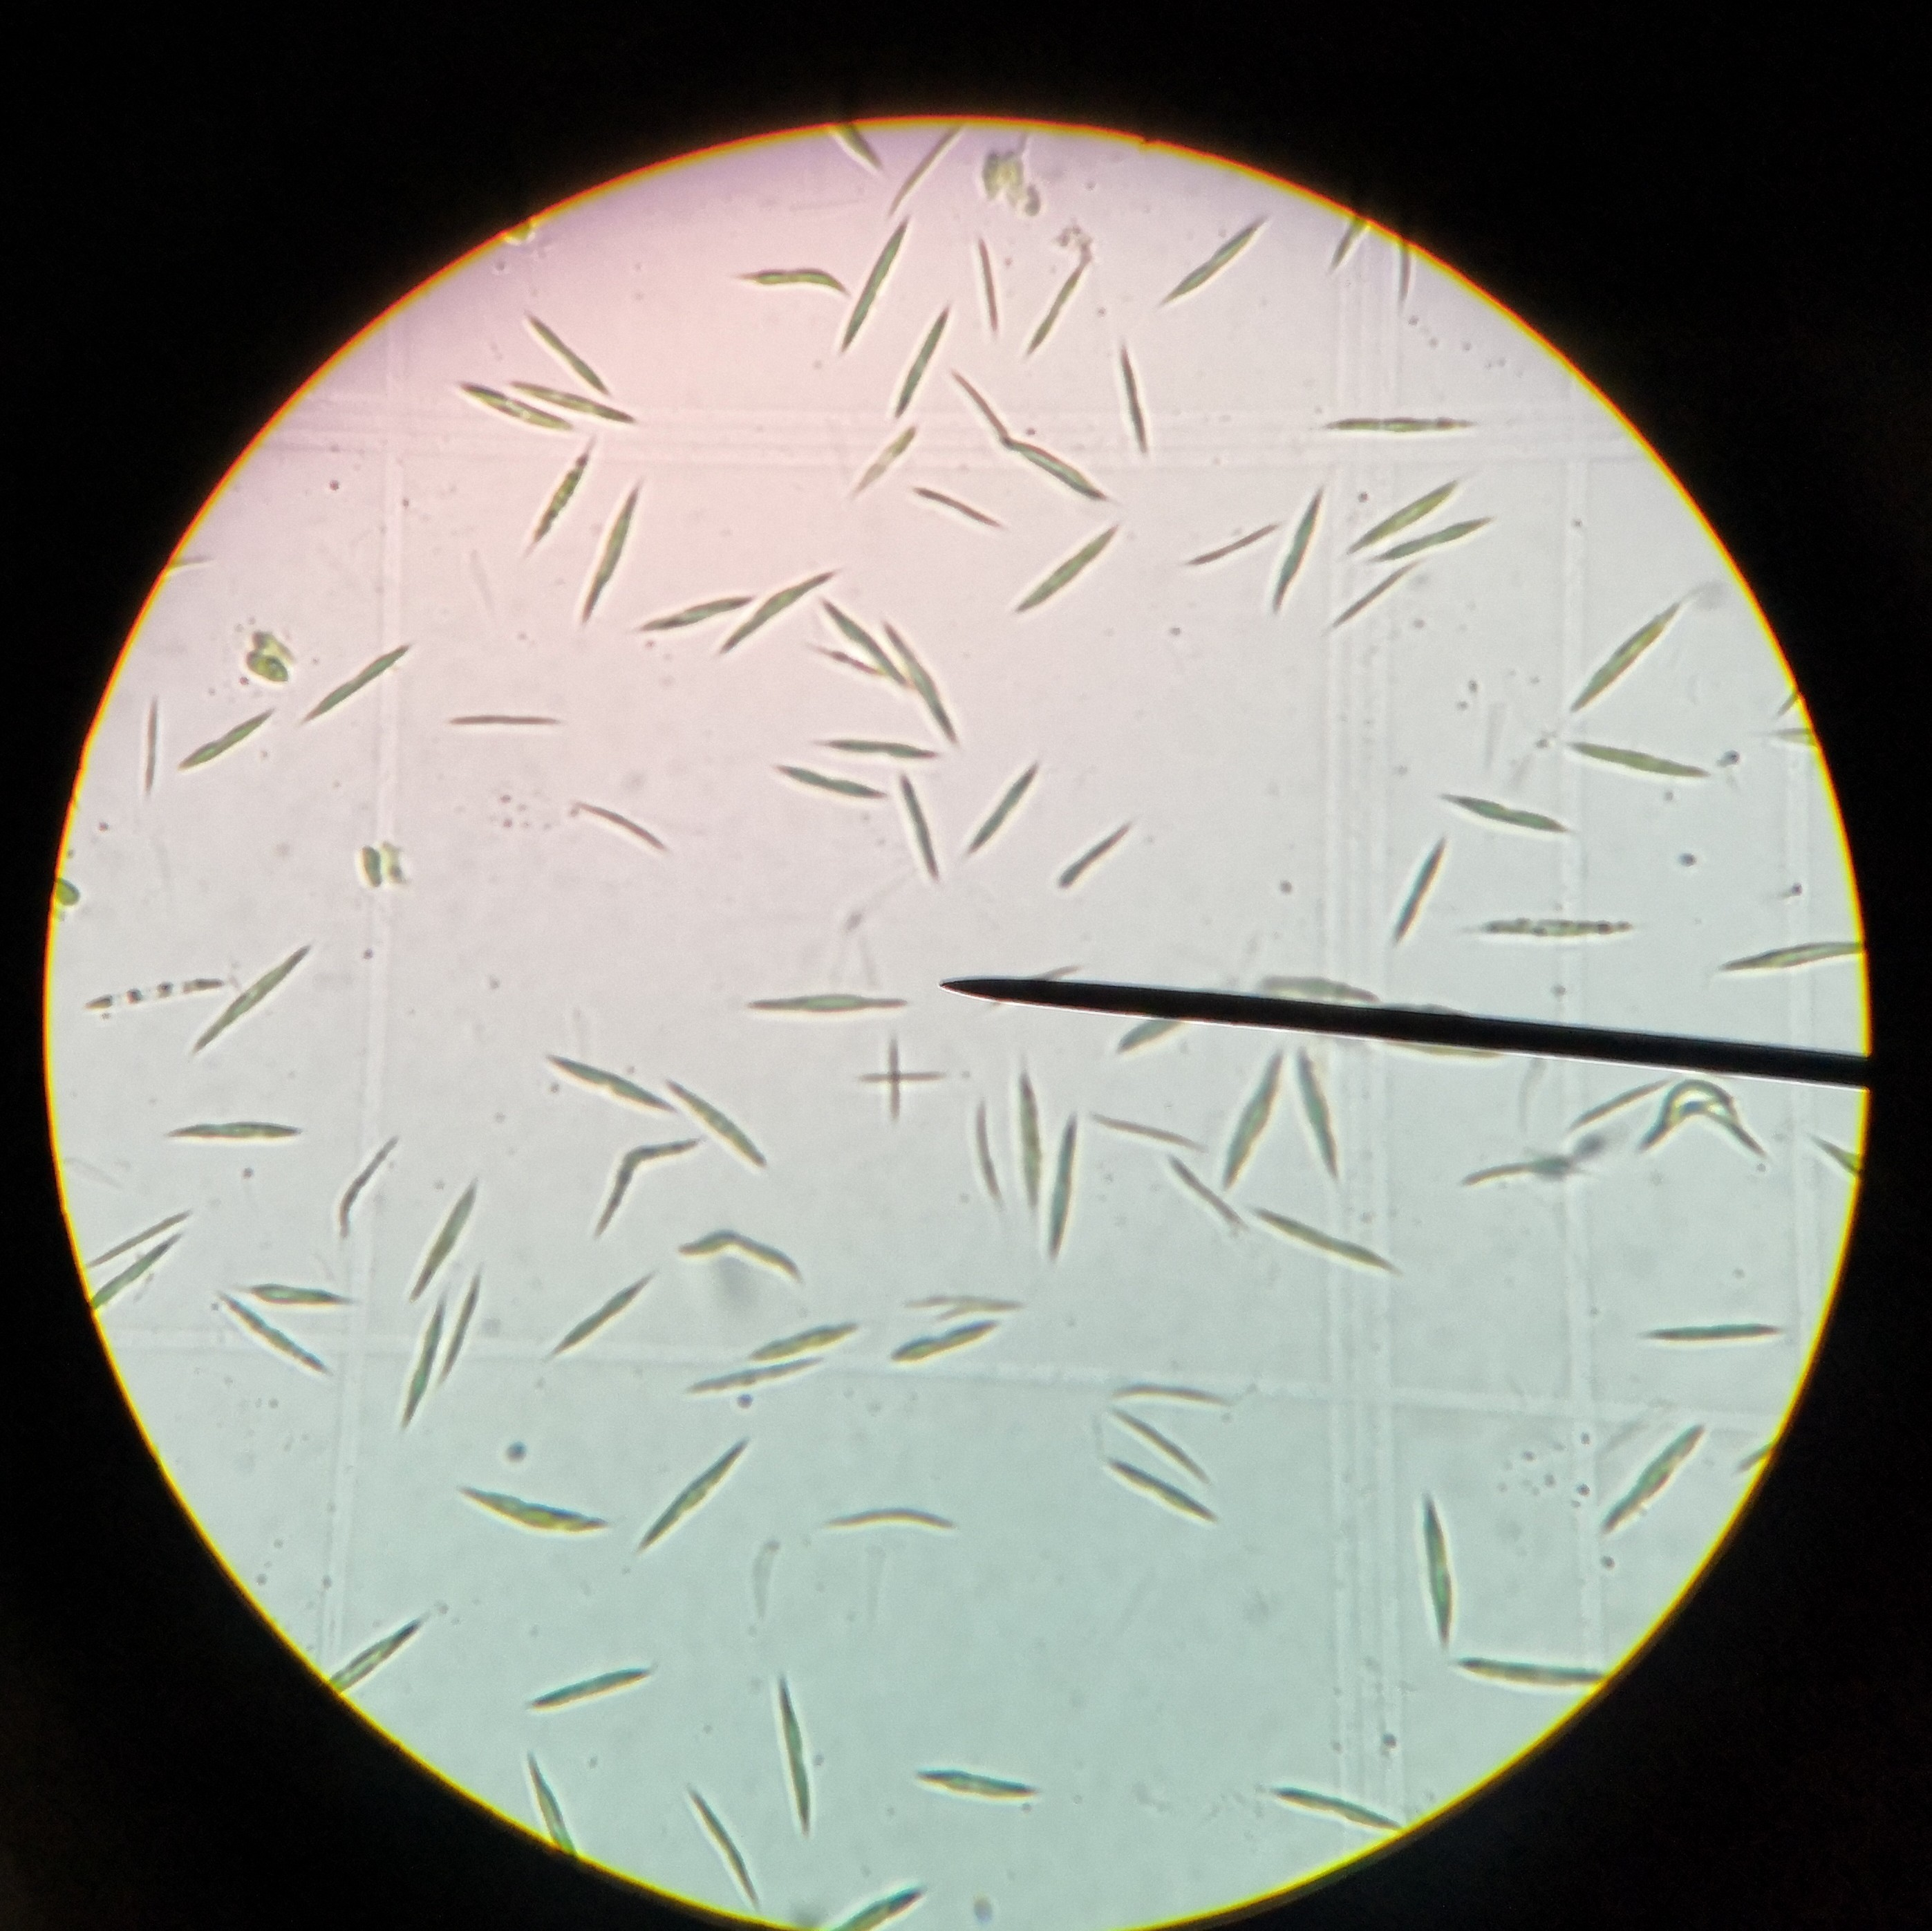Microalgae: (1554, 591, 1685, 711), (1593, 1423, 1708, 1544), (187, 953, 300, 1065), (1635, 1077, 1775, 1167), (751, 1675, 829, 1836), (636, 1436, 746, 1549), (589, 1130, 698, 1231), (1458, 1632, 1594, 1712), (718, 568, 841, 654), (300, 640, 417, 727), (665, 1077, 771, 1169), (843, 214, 910, 357), (1094, 1455, 1218, 1531), (578, 477, 643, 621), (1264, 1781, 1403, 1846), (331, 1604, 424, 1701), (209, 1294, 320, 1376), (1163, 216, 1266, 302), (85, 1245, 189, 1330), (74, 1206, 191, 1280), (1250, 1211, 1396, 1270), (1034, 1116, 1089, 1271), (689, 1797, 762, 1912), (958, 757, 1036, 863), (887, 622, 953, 746), (1336, 476, 1453, 545), (553, 1268, 654, 1347), (523, 304, 615, 391), (456, 1482, 610, 1533), (527, 437, 594, 552), (997, 1050, 1046, 1206), (541, 1049, 670, 1107), (693, 1346, 825, 1402), (898, 1756, 1043, 1807), (1326, 559, 1430, 630), (1013, 529, 1110, 601), (1382, 500, 1497, 561), (673, 1229, 802, 1282), (1013, 262, 1085, 355), (1416, 1498, 1458, 1657), (1110, 1399, 1200, 1471), (1561, 736, 1715, 778), (513, 1756, 576, 1858), (1274, 477, 1322, 612), (894, 301, 949, 417), (331, 1139, 401, 1227), (1388, 840, 1448, 943), (1228, 1049, 1276, 1176), (1460, 911, 1632, 946), (1313, 407, 1476, 444), (1716, 935, 1852, 980), (417, 1176, 470, 1289), (1640, 1312, 1778, 1355), (453, 382, 571, 430), (749, 1310, 868, 1356), (1458, 1149, 1577, 1195), (1568, 1066, 1674, 1118), (571, 799, 670, 854), (1043, 828, 1133, 888), (997, 431, 1101, 483), (746, 983, 905, 1017), (834, 1503, 963, 1544), (827, 1881, 930, 1931), (896, 118, 960, 198), (525, 1668, 649, 1708), (1444, 794, 1561, 836), (1161, 1149, 1239, 1213), (237, 1264, 348, 1309), (442, 1271, 491, 1369), (958, 1100, 1002, 1206), (516, 380, 636, 419), (1301, 1038, 1333, 1185), (640, 592, 749, 635), (857, 423, 917, 497), (163, 1119, 316, 1148), (1183, 518, 1264, 569), (1078, 1118, 1202, 1151), (898, 1323, 988, 1369), (962, 366, 1013, 446), (410, 1301, 445, 1415), (804, 729, 928, 760), (776, 766, 886, 801), (1112, 1381, 1237, 1409), (735, 265, 848, 295), (1386, 228, 1426, 311), (1122, 340, 1149, 467), (967, 235, 1000, 331), (914, 492, 1006, 525), (141, 688, 171, 790), (901, 776, 932, 875), (1331, 200, 1368, 276), (214, 713, 272, 760), (1803, 1132, 1861, 1179), (445, 709, 555, 729), (831, 115, 870, 161)
